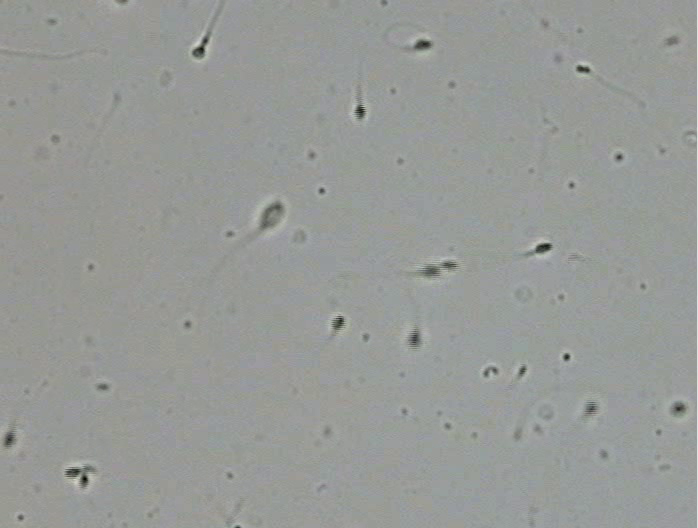S: (259, 201, 286, 229), (419, 264, 441, 279), (331, 314, 346, 332), (407, 331, 421, 349), (353, 104, 366, 121), (440, 260, 458, 272), (535, 242, 553, 254), (414, 39, 432, 51), (3, 431, 15, 448), (64, 467, 81, 479), (671, 402, 685, 416), (192, 46, 206, 59), (584, 401, 597, 415), (78, 474, 89, 490), (575, 65, 590, 74)
